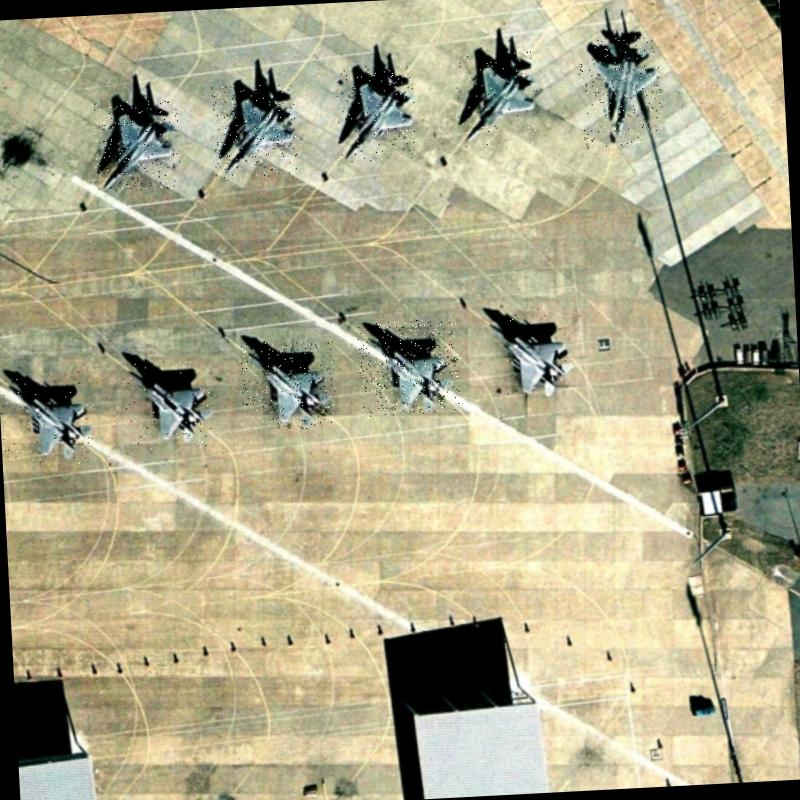A13: (357, 318, 461, 417), (481, 304, 580, 406), (577, 35, 663, 148), (0, 370, 98, 468), (238, 338, 338, 432), (123, 358, 217, 452), (453, 50, 540, 150), (211, 81, 298, 179), (92, 99, 182, 192), (334, 64, 418, 163)
